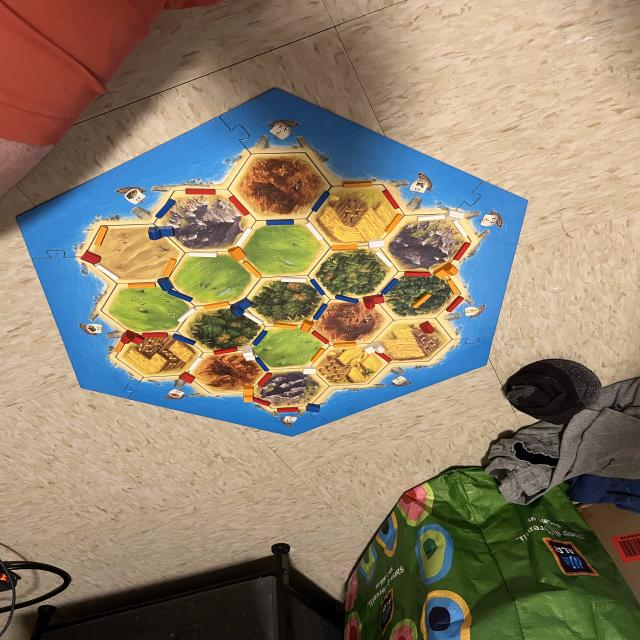blue-city: (230, 297, 256, 317), (148, 224, 174, 241)
blue-road: (153, 199, 177, 220), (310, 191, 330, 213), (307, 277, 327, 298), (380, 278, 399, 296), (166, 290, 194, 302), (334, 294, 359, 306), (172, 334, 195, 346), (252, 331, 268, 346), (263, 220, 297, 227), (255, 356, 269, 372), (314, 303, 326, 320)
blue-settlement: (157, 276, 174, 292), (305, 402, 321, 415)
orange-city: (432, 261, 459, 279), (242, 384, 253, 403)
orange-road: (240, 260, 263, 279), (383, 214, 404, 233), (94, 224, 109, 248), (341, 180, 376, 190), (410, 294, 432, 309), (203, 299, 230, 311), (164, 258, 178, 278), (445, 280, 460, 296), (330, 244, 360, 252), (310, 348, 326, 362), (273, 322, 298, 330), (126, 282, 157, 288), (332, 343, 355, 349), (115, 341, 124, 353)
orange-settlement: (227, 247, 246, 261), (298, 320, 314, 334)
red-city: (118, 330, 147, 347), (363, 293, 384, 310)
red-road: (229, 195, 250, 215), (380, 190, 401, 209), (453, 243, 471, 261), (445, 296, 465, 312), (183, 188, 218, 196), (311, 330, 329, 345), (404, 270, 430, 278), (213, 347, 237, 355), (252, 398, 272, 407), (258, 374, 272, 386), (142, 332, 169, 338), (376, 352, 391, 362), (277, 407, 300, 413)
red-settlement: (80, 252, 102, 265), (419, 320, 435, 333)
white-city: (241, 345, 258, 364), (363, 340, 385, 354)
white-road: (96, 262, 120, 280), (306, 222, 324, 241), (177, 307, 198, 323), (236, 228, 252, 247), (374, 251, 394, 266), (416, 213, 445, 222), (244, 312, 264, 325), (452, 220, 467, 237), (186, 356, 203, 371), (188, 250, 218, 258), (280, 278, 308, 284)
white-settlement: (444, 209, 465, 220), (368, 238, 385, 251), (300, 366, 318, 375)
